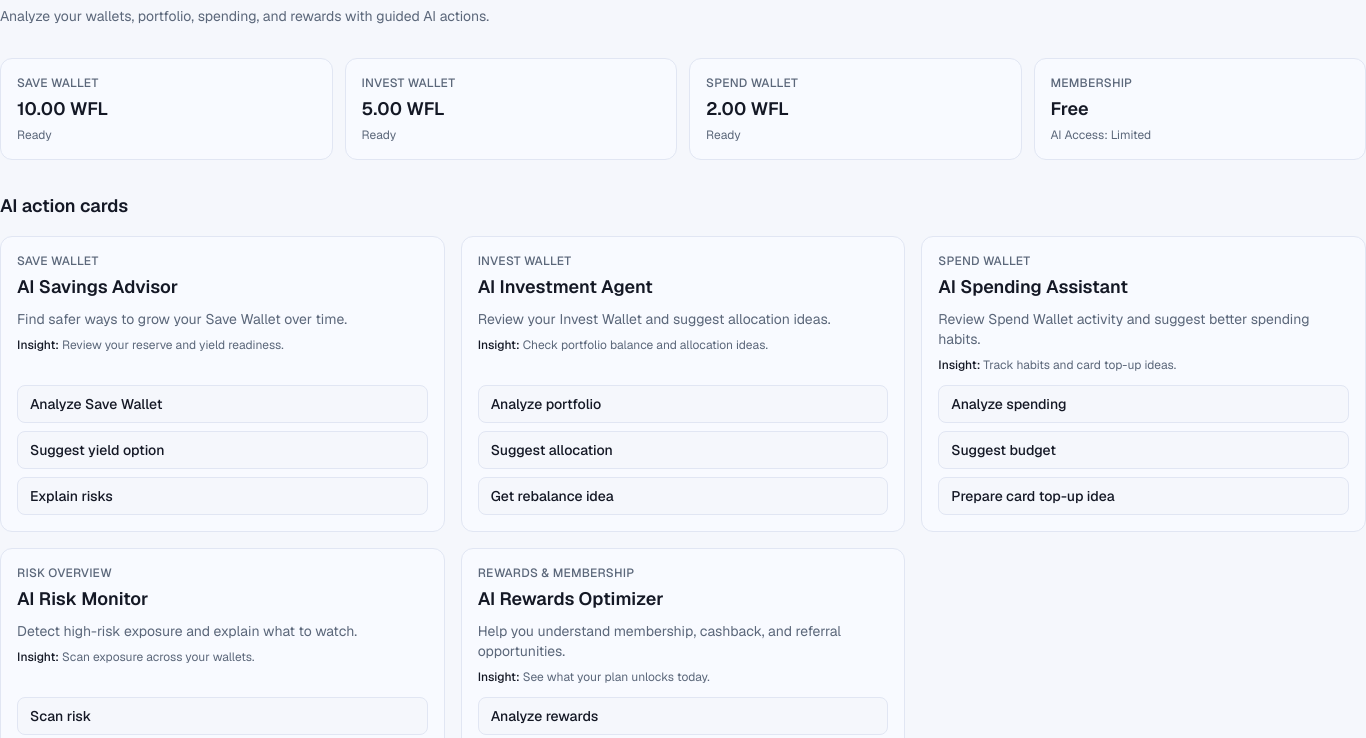
Test: AiActionCenterPage › shows error when action fails
The image size is (1366, 738).
Click the button "Suggest allocation" at (552, 450), box [478,431,888,469]
(page scrolled)
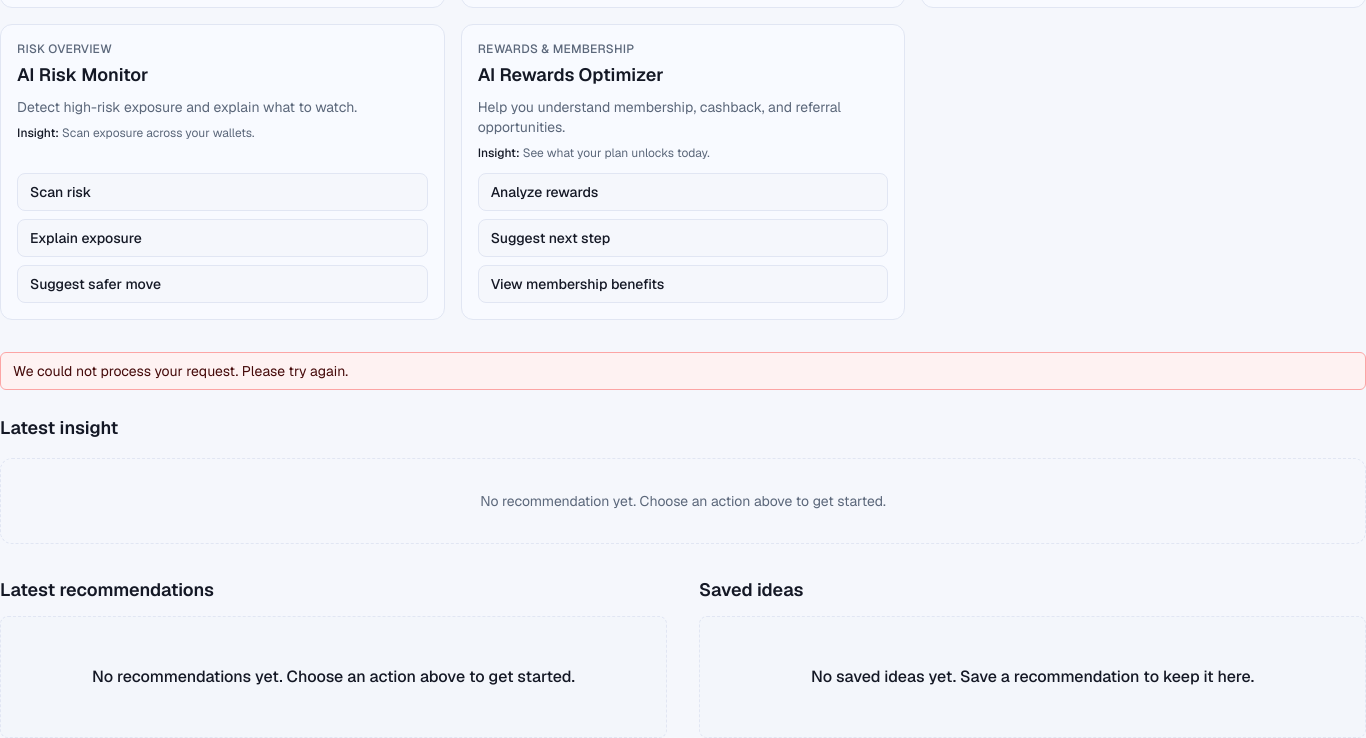
Expected: the message "We could not process your request. Please try again." is shown, [0,352,1365,390]
